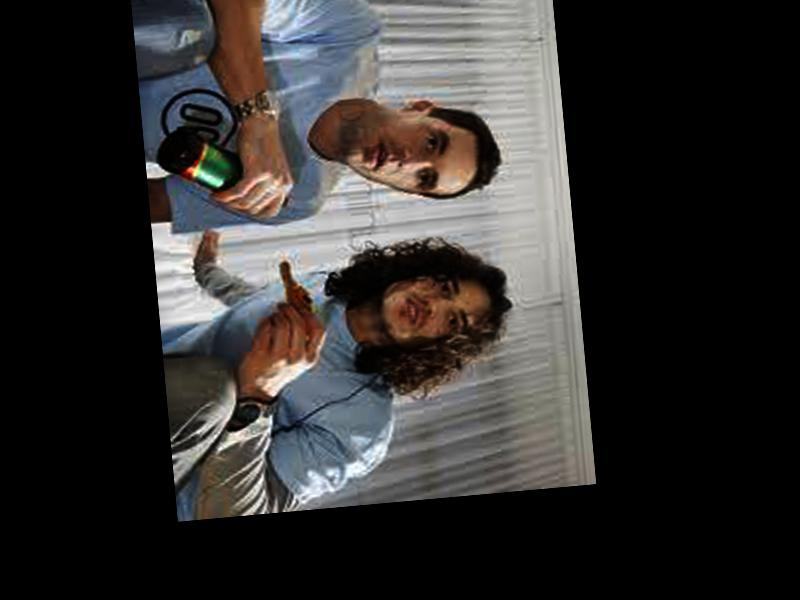Beer: (153, 117, 289, 218)
